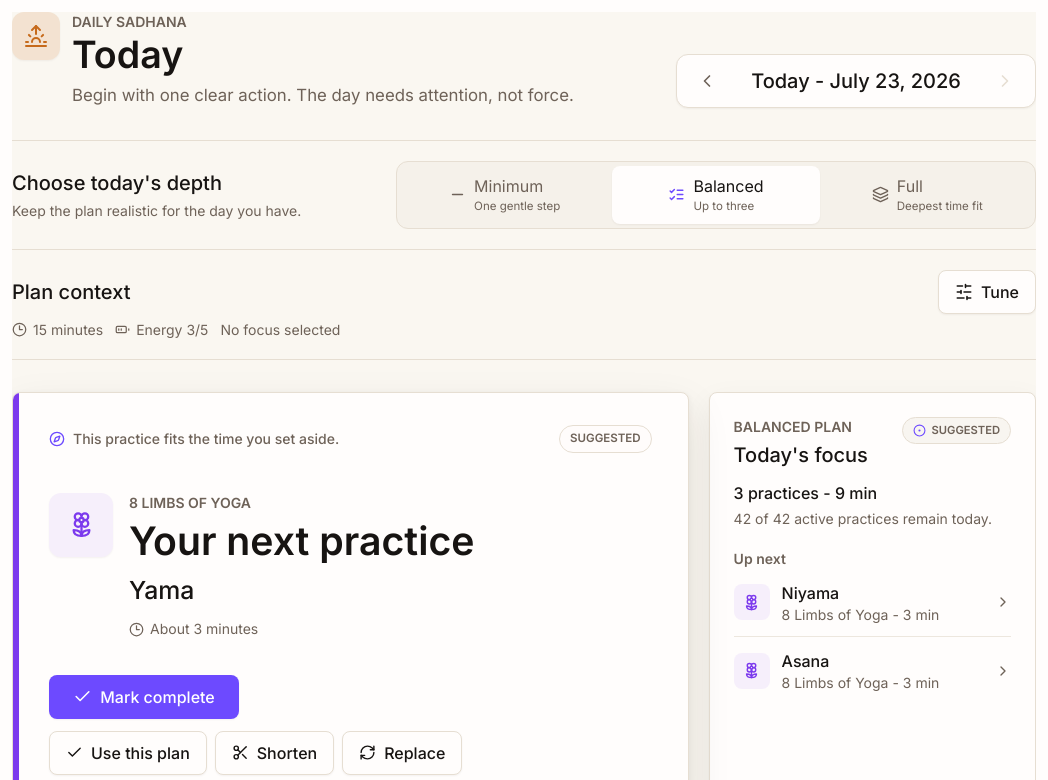
Test: TodayScreen › changes plan depth without changing practice configuration
Click the button with aria-label "Minimum plan": click(505, 195) [401,166,608,224]
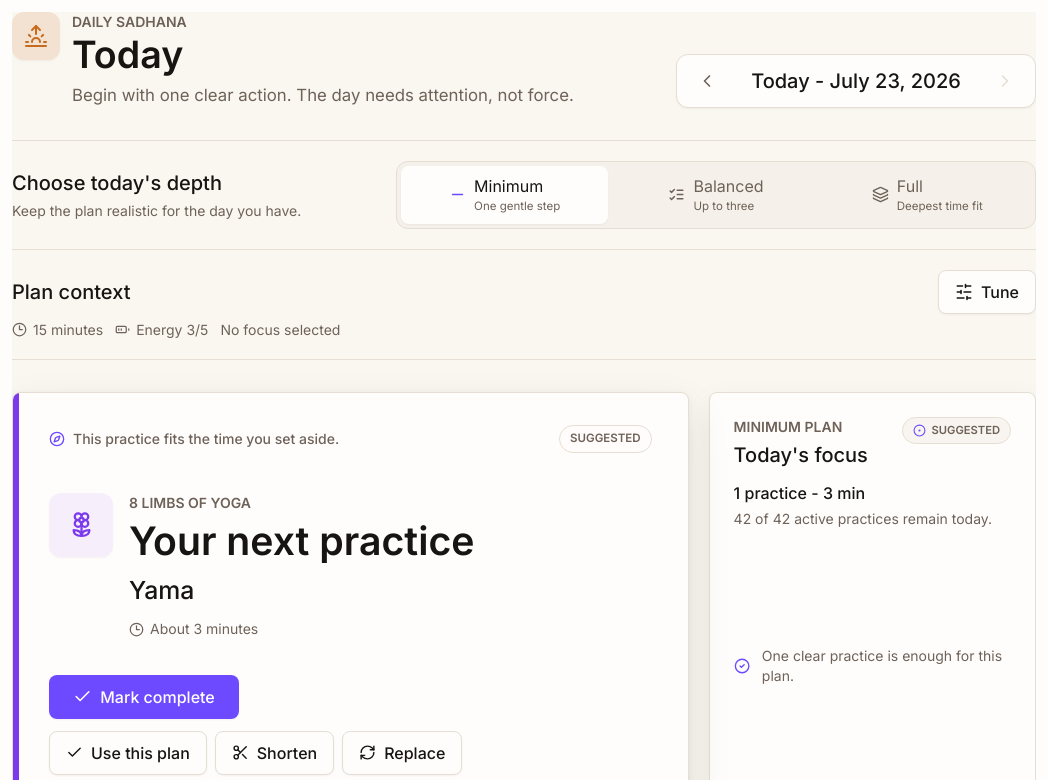
Check: the text "1 practice - 3 min" is shown, box [734,483,865,503]
